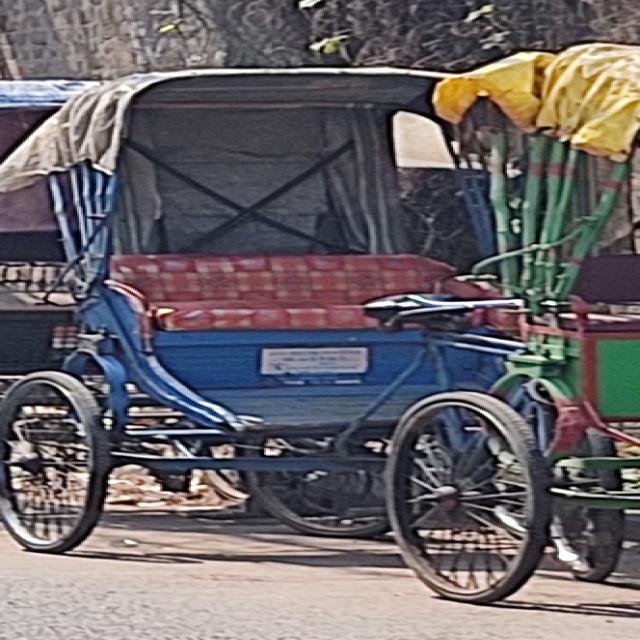rickshaw: (5, 54, 591, 606)
